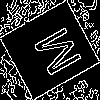M: (25, 25, 83, 83)
